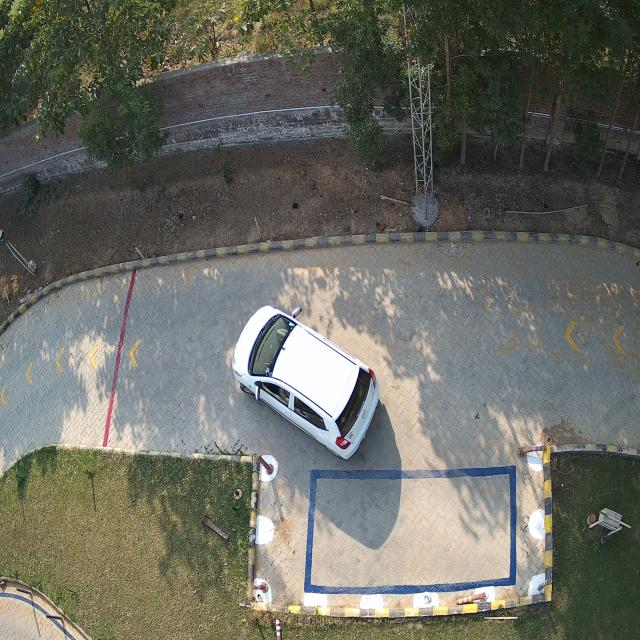car: (232, 305, 380, 460)
